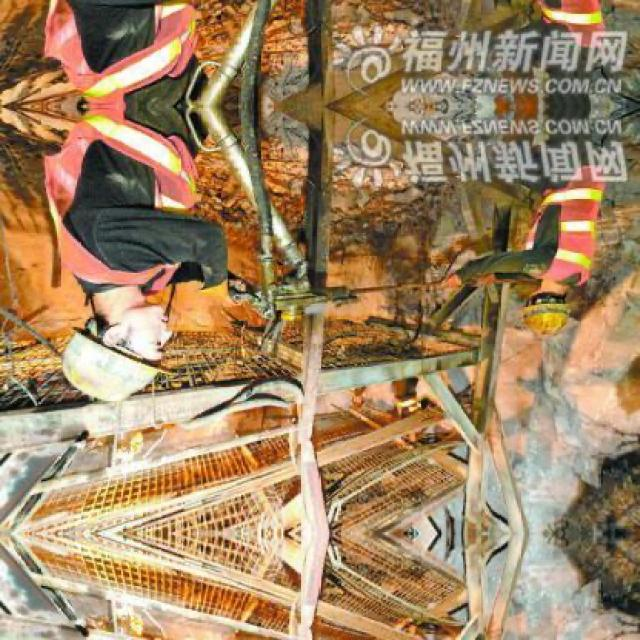con casco: (56, 282, 228, 418), (506, 257, 585, 358)
